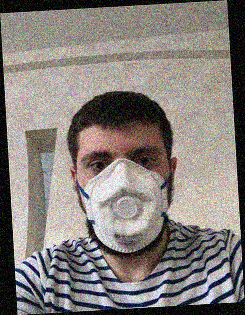with_mask: (78, 140, 172, 258)
